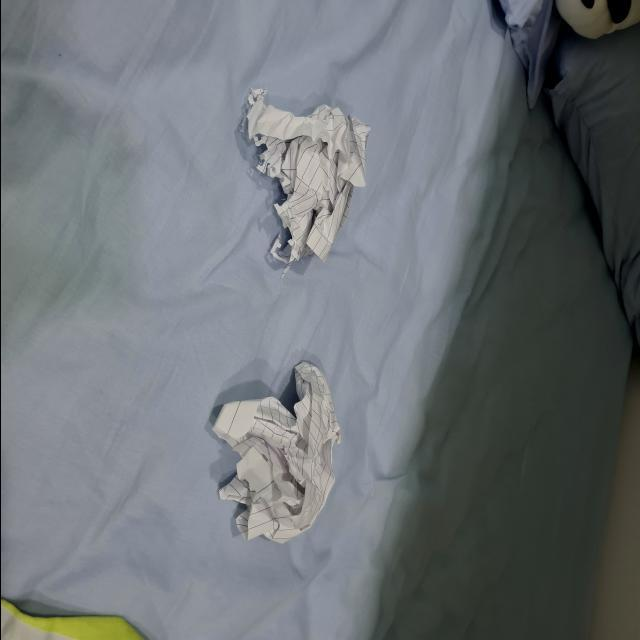Paper: (206, 66, 385, 289), (199, 339, 346, 555)
